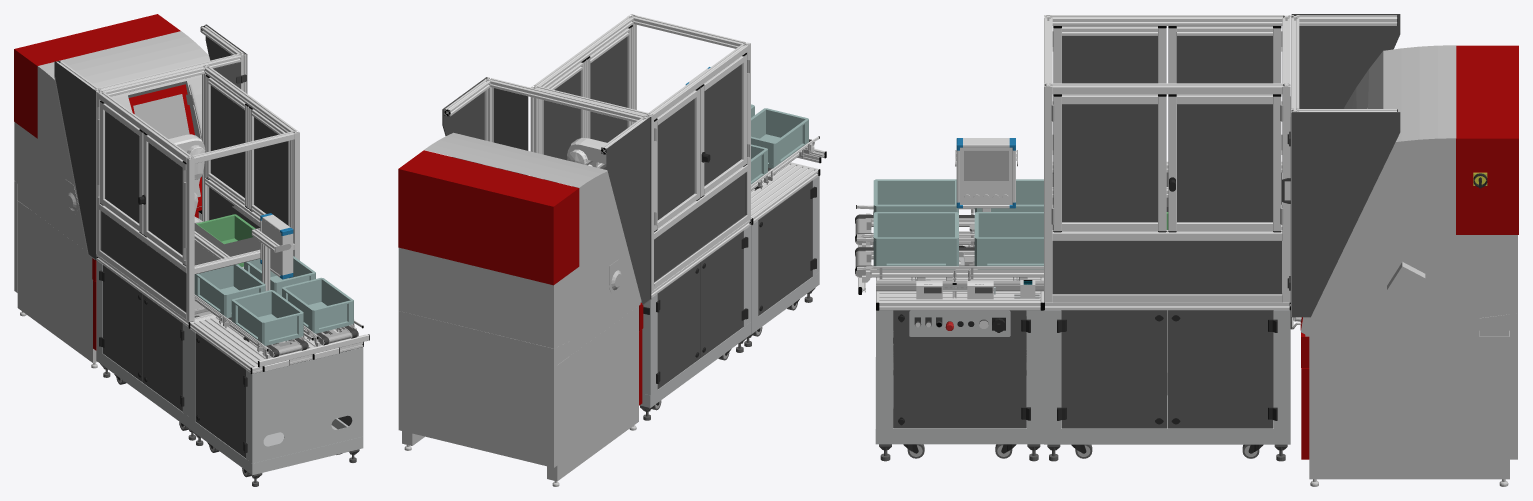
3 views of the same model, side by side, from view 1: azimuth 30°, elevation 25°; view 2: azimuth 150°, elevation 25°; view 3: azimuth 270°, elevation 25° (orthographic). The views are drawn at different scales.
Visible parts, largest first — view 1: M947.I473, M3.I1, M709.I354, M953.I476, M505.I252, M15.I7, M869.I434, M789.I394, M787.I393, M867.I433, M865.I432, M469.I234 (+31 smaller); view 2: M947.I473, M953.I476, M709.I354, M505.I252, M15.I7, M787.I393, M789.I394, M869.I434, M865.I432, M867.I433, M861.I430, M469.I234 (+20 smaller); view 3: M947.I473, M503.I251, M101.I50, M953.I476, M851.I425, M871.I435, M849.I424, M863.I431, M861.I430, M747.I373, M709.I354, M505.I252 (+28 smaller).
Boxes of the visible parts, x1,y1,x2,y2 form: M947.I473: (14, 31, 210, 368); M3.I1: (246, 347, 363, 463); M709.I354: (96, 90, 294, 319); M953.I476: (14, 14, 201, 350); M505.I252: (54, 61, 95, 259); M15.I7: (195, 333, 245, 457); M869.I434: (100, 210, 186, 312); M789.I394: (103, 265, 142, 382); M787.I393: (143, 294, 182, 411); M867.I433: (148, 143, 182, 255); M865.I432: (105, 111, 139, 223); M469.I234: (231, 290, 303, 345); M947.I473: (398, 132, 641, 486); M953.I476: (398, 150, 643, 405); M709.I354: (633, 15, 747, 291); M505.I252: (606, 117, 651, 304); M15.I7: (758, 181, 812, 315); M787.I393: (700, 231, 743, 357); M789.I394: (657, 263, 700, 389); M869.I434: (654, 172, 746, 282); M865.I432: (657, 99, 694, 220); M867.I433: (704, 64, 741, 186); M861.I430: (590, 37, 627, 142); M469.I234: (751, 108, 808, 168); M947.I473: (1291, 45, 1517, 486); M503.I251: (1291, 112, 1400, 317); M101.I50: (893, 310, 1026, 428); M953.I476: (1300, 45, 1518, 459); M851.I425: (1061, 310, 1167, 428); M871.I435: (1052, 241, 1281, 294); M849.I424: (1168, 310, 1273, 428); M863.I431: (1177, 104, 1272, 222); M861.I430: (1062, 104, 1157, 222); M747.I373: (1053, 94, 1281, 231); M709.I354: (1044, 15, 1290, 229); M505.I252: (1291, 14, 1400, 108).
Size of the model in its own units: 115 by 196 by 312.
